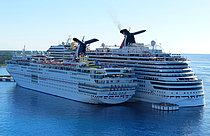Ship: (8, 36, 141, 108)
